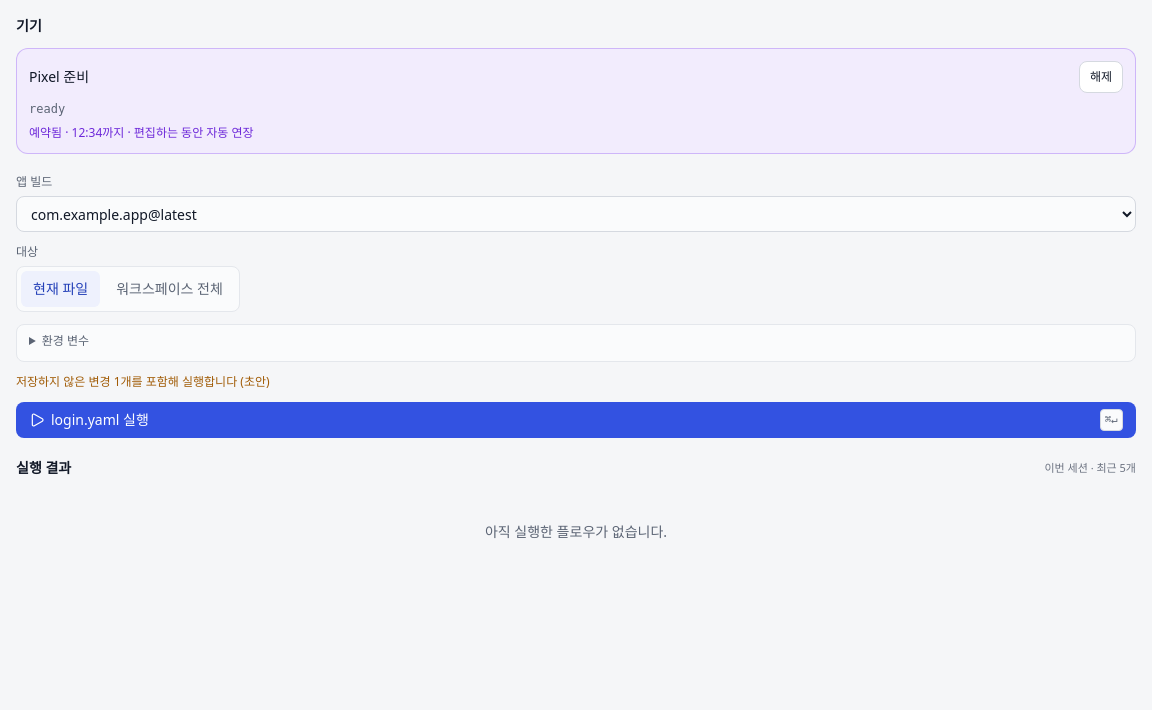
shows no_matching_devices inline without losing the draft or environment
Step 1. Click the heading "환경 변수" → (65,340), box [42, 332, 89, 349]
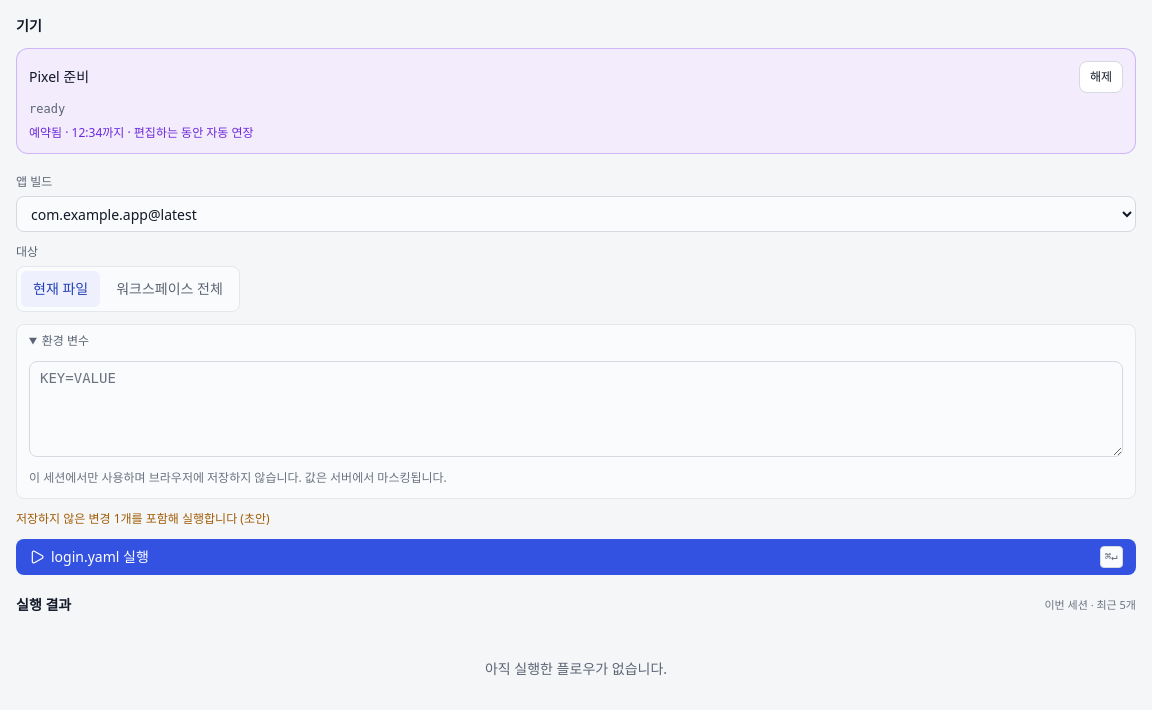
Step 2. Type "TOKEN=private" into the text box named "환경 변수" → (576,409), box [29, 361, 1123, 457]
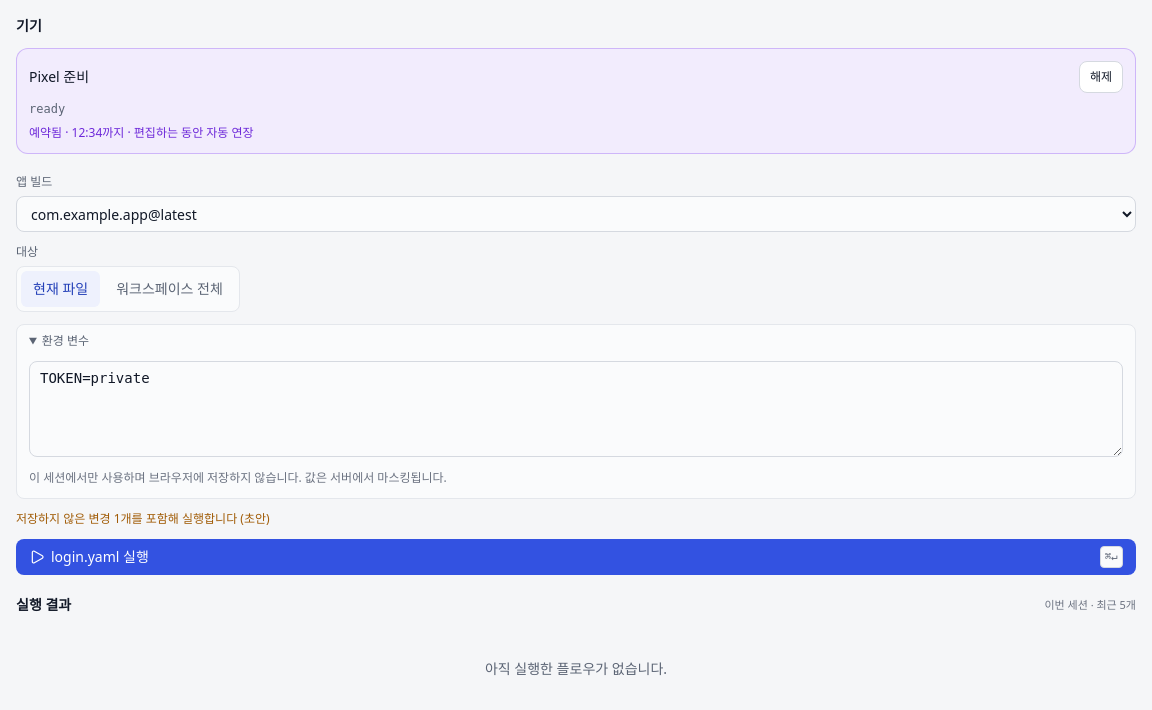
Step 3. Click the button "login.yaml 실행 ⌘↵" → (100,556), box [16, 539, 1136, 575]
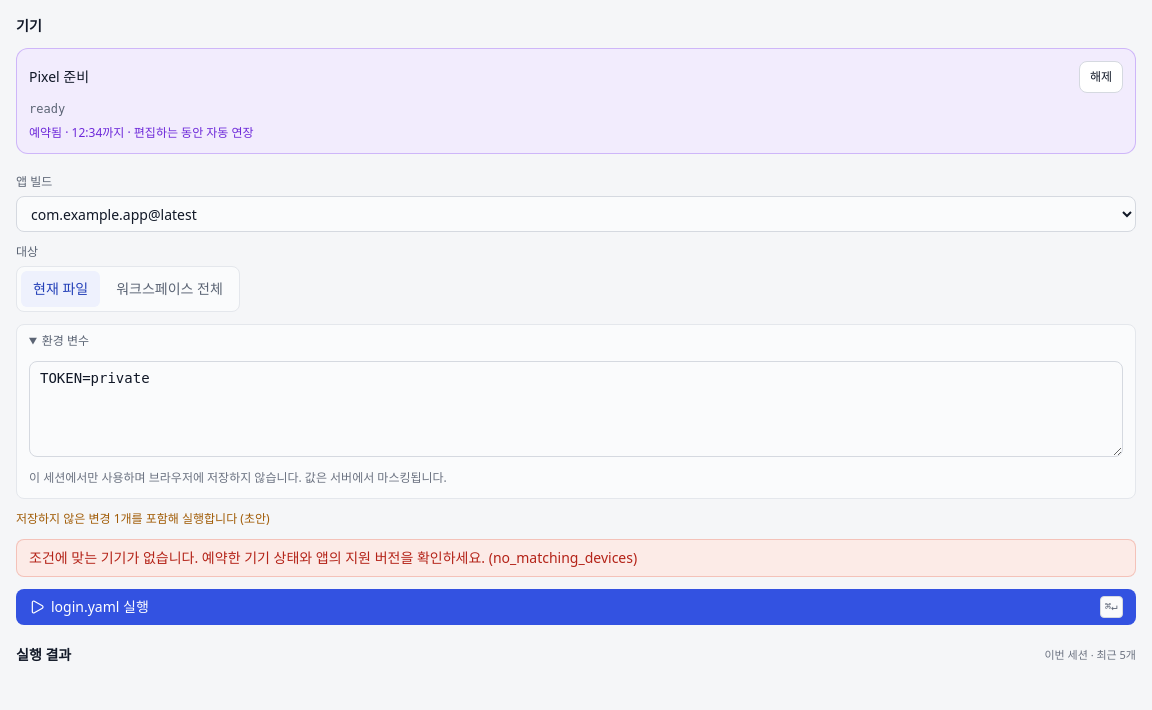
Check: the message shows "no_matching_devices", box [29, 548, 637, 567]
